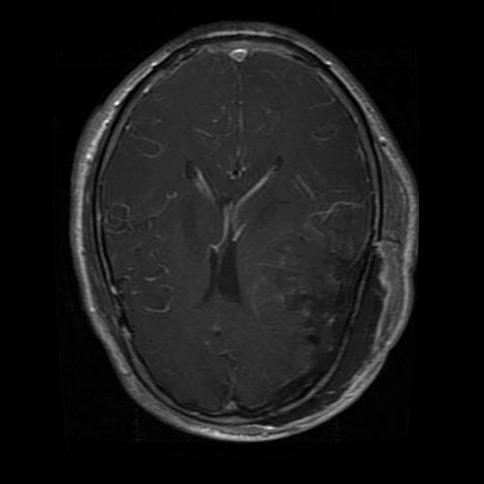Tumour-Glioma: (302, 247, 385, 386)
